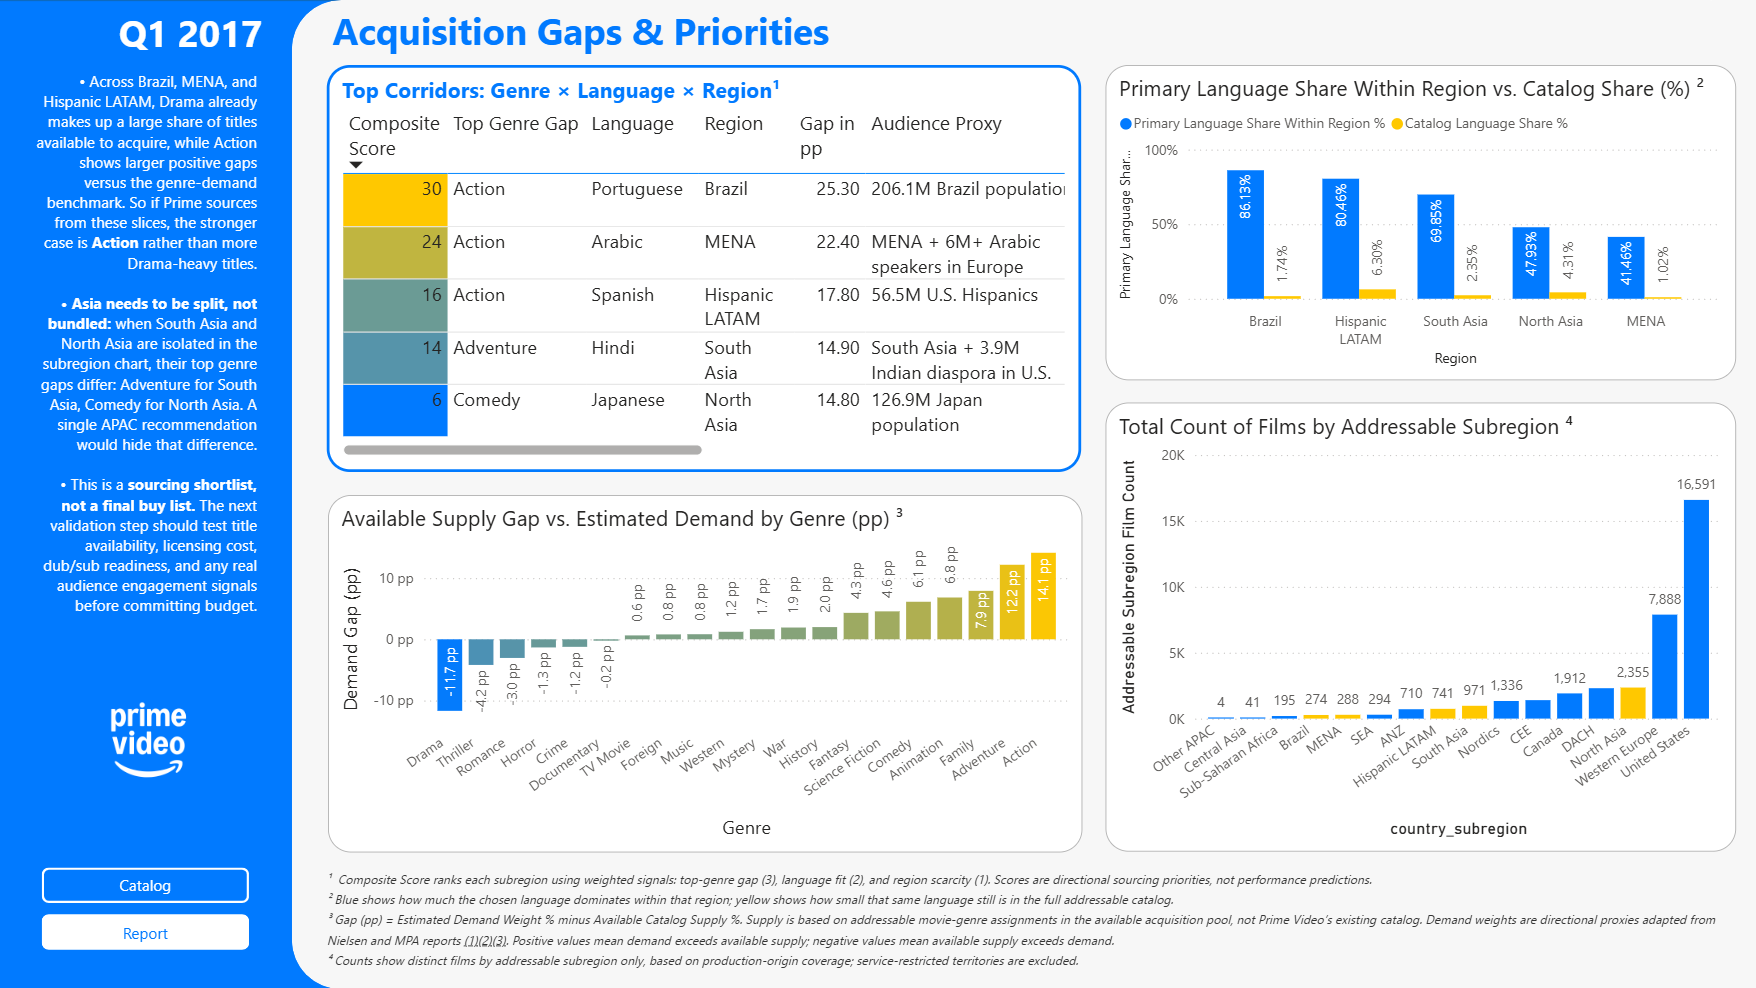

This screenshot's page, from the dashboard's own definition file:
{"tool":"powerbi","page":{"name":"Report","canvas":[1536,864],"ordinal":1},"visuals":[{"type":"shape","box":[0,0,312,864],"z":0},{"type":"shape","box":[256.7,0,1280,863.3],"z":1000},{"type":"shape","box":[1496,0,40,864],"z":2000},{"type":"clusteredColumnChart","title":"Primary Language Share Within Region vs. Catalog Share (%) ² ","fields":{"Category":["PriorityLanguageAxis.Region"],"Y":["PriorityLanguageAxis.Primary Language Share Within Region %","PriorityLanguageAxis.Catalog Language Share %"]},"box":[966.7,56.7,550,275],"z":3000},{"type":"clusteredColumnChart","title":"Total Count of Films by Addressable Subregion ⁴","fields":{"Category":["gold_gold mart_country_summary.country_subregion"],"Y":["gold_gold mart_country_summary.Addressable Subregion Film Count"]},"box":[966.7,351.7,550,391.7],"z":4000},{"type":"textbox","box":[286.7,0,645,56.7],"z":5000},{"type":"textbox","box":[286.7,756.7,1230,106.7],"z":6000},{"type":"tableEx","title":"Top Corridors: Genre × Language × Region¹","fields":{"Values":["AcquisitionPriorityV2.Composite Score","AcquisitionPriorityV2.Top Genre Gap","AcquisitionPriorityV2.Language","AcquisitionPriorityV2.Region","Sum(AcquisitionPriorityV2.Gap (pp))","AcquisitionPriorityV2.Audience Proxy","AcquisitionPriorityV2.Rationale"]},"box":[286.7,56.7,658.3,355],"z":7000},{"type":"textbox","box":[628.3,475,303.3,48.3],"z":8000},{"type":"clusteredColumnChart","title":"Available Supply Gap vs. Estimated Demand by Genre (pp) ³ ","fields":{"Category":["GenreDemandWeights.Genre"],"Y":["GenreDemandWeights.Demand Gap (pp)"]},"box":[288.3,431.7,658.3,311.7],"z":9000},{"type":"pageNavigator","box":[38.3,756.7,181.7,73.3],"z":10000},{"type":"textbox","box":[26.7,56.7,205,491.7],"z":11000},{"type":"image","box":[88.3,588.3,85,113.3],"z":12000},{"type":"textbox","box":[65,1.7,170,56.7],"z":13000}]}

Visuals, with their boxes in screenshot pixels (x1, y1, x2, y2), scaled from the page's 1536x864 canvas onto the 1756x988 screenshot:
shape: left=0, top=0, right=357, bottom=987
shape: left=293, top=0, right=1755, bottom=987
shape: left=1710, top=0, right=1755, bottom=987
"Primary Language Share Within Region vs. Catalog Share (%) ² " clusteredColumnChart: left=1105, top=65, right=1734, bottom=379
"Total Count of Films by Addressable Subregion ⁴" clusteredColumnChart: left=1105, top=402, right=1734, bottom=850
textbox: left=328, top=0, right=1065, bottom=65
textbox: left=328, top=865, right=1734, bottom=987
"Top Corridors: Genre × Language × Region¹" tableEx: left=328, top=65, right=1080, bottom=471
textbox: left=718, top=543, right=1065, bottom=598
"Available Supply Gap vs. Estimated Demand by Genre (pp) ³ " clusteredColumnChart: left=330, top=494, right=1082, bottom=850
pageNavigator: left=44, top=865, right=252, bottom=949
textbox: left=31, top=65, right=265, bottom=627
image: left=101, top=673, right=198, bottom=802
textbox: left=74, top=2, right=269, bottom=67
